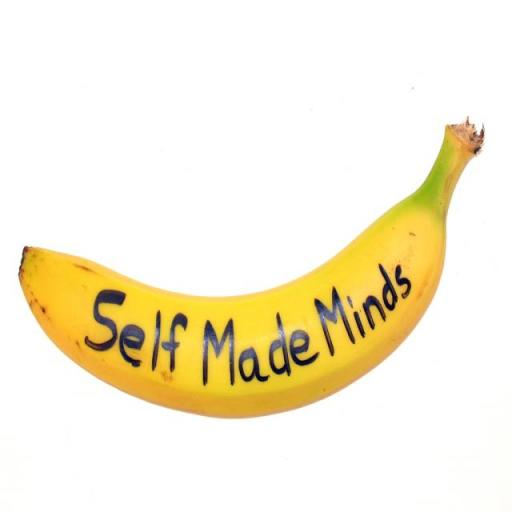fruit: (20, 120, 483, 416)
